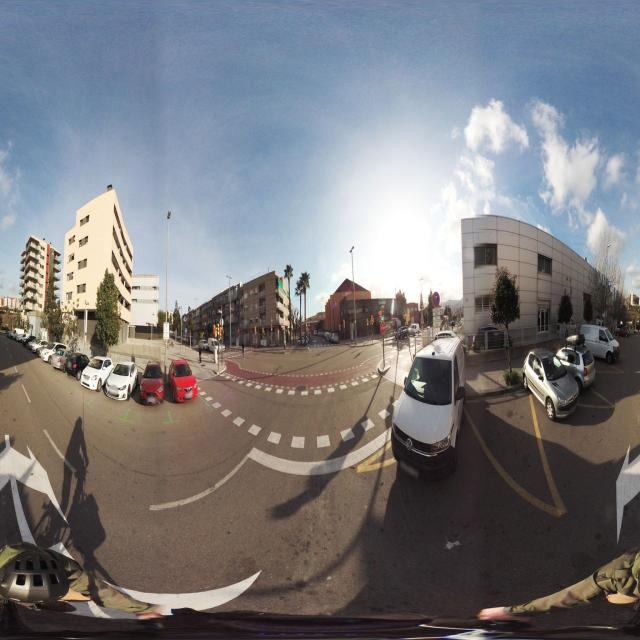forb_stopping: (432, 292, 440, 308), (394, 309, 398, 319)
